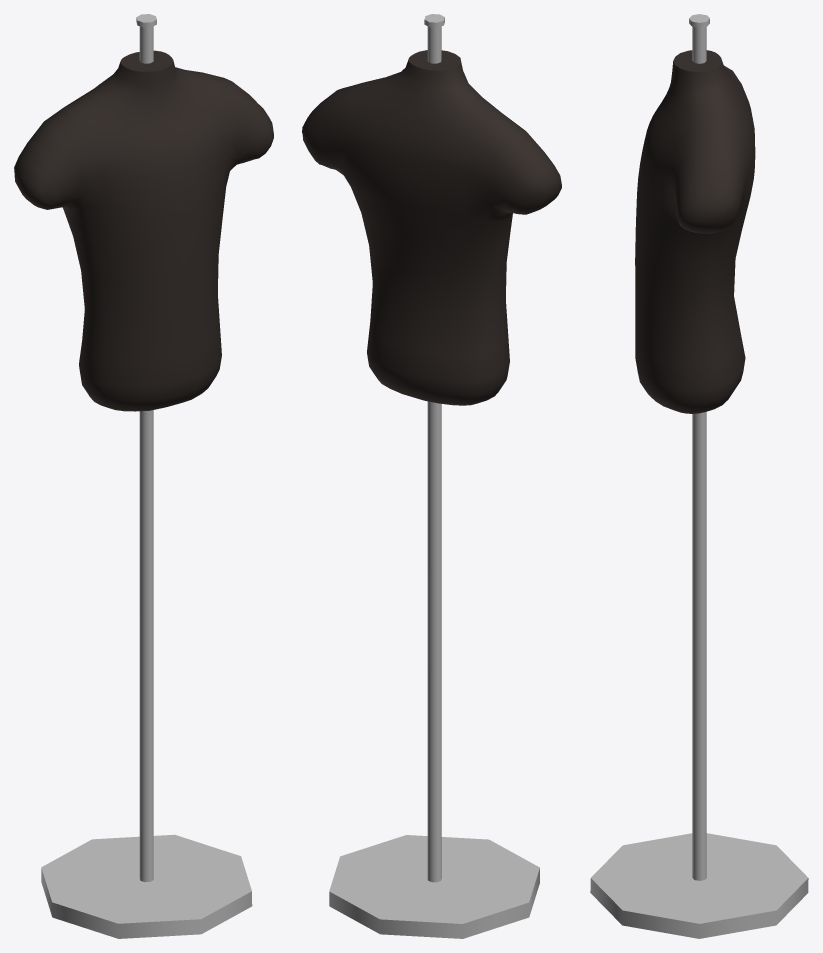
File: mannequin-m-1.fbx
3 renders of one model, left to right at view 1: azimuth 30°, elevation 25°; view 2: azimuth 150°, elevation 25°; view 3: azimuth 270°, elevation 25°, orthographic.
Visible parts, largest first — view 1: mannequin-m-1; view 2: mannequin-m-1; view 3: mannequin-m-1.
Boxes of the visible parts, bbox=[...] form: mannequin-m-1: bbox=[14, 14, 273, 938]; mannequin-m-1: bbox=[302, 14, 561, 938]; mannequin-m-1: bbox=[590, 14, 808, 938].
Bounding box in the file's own units: 58.23 × 196 × 44.3.
Materials: 2 (2 with a texture image).
